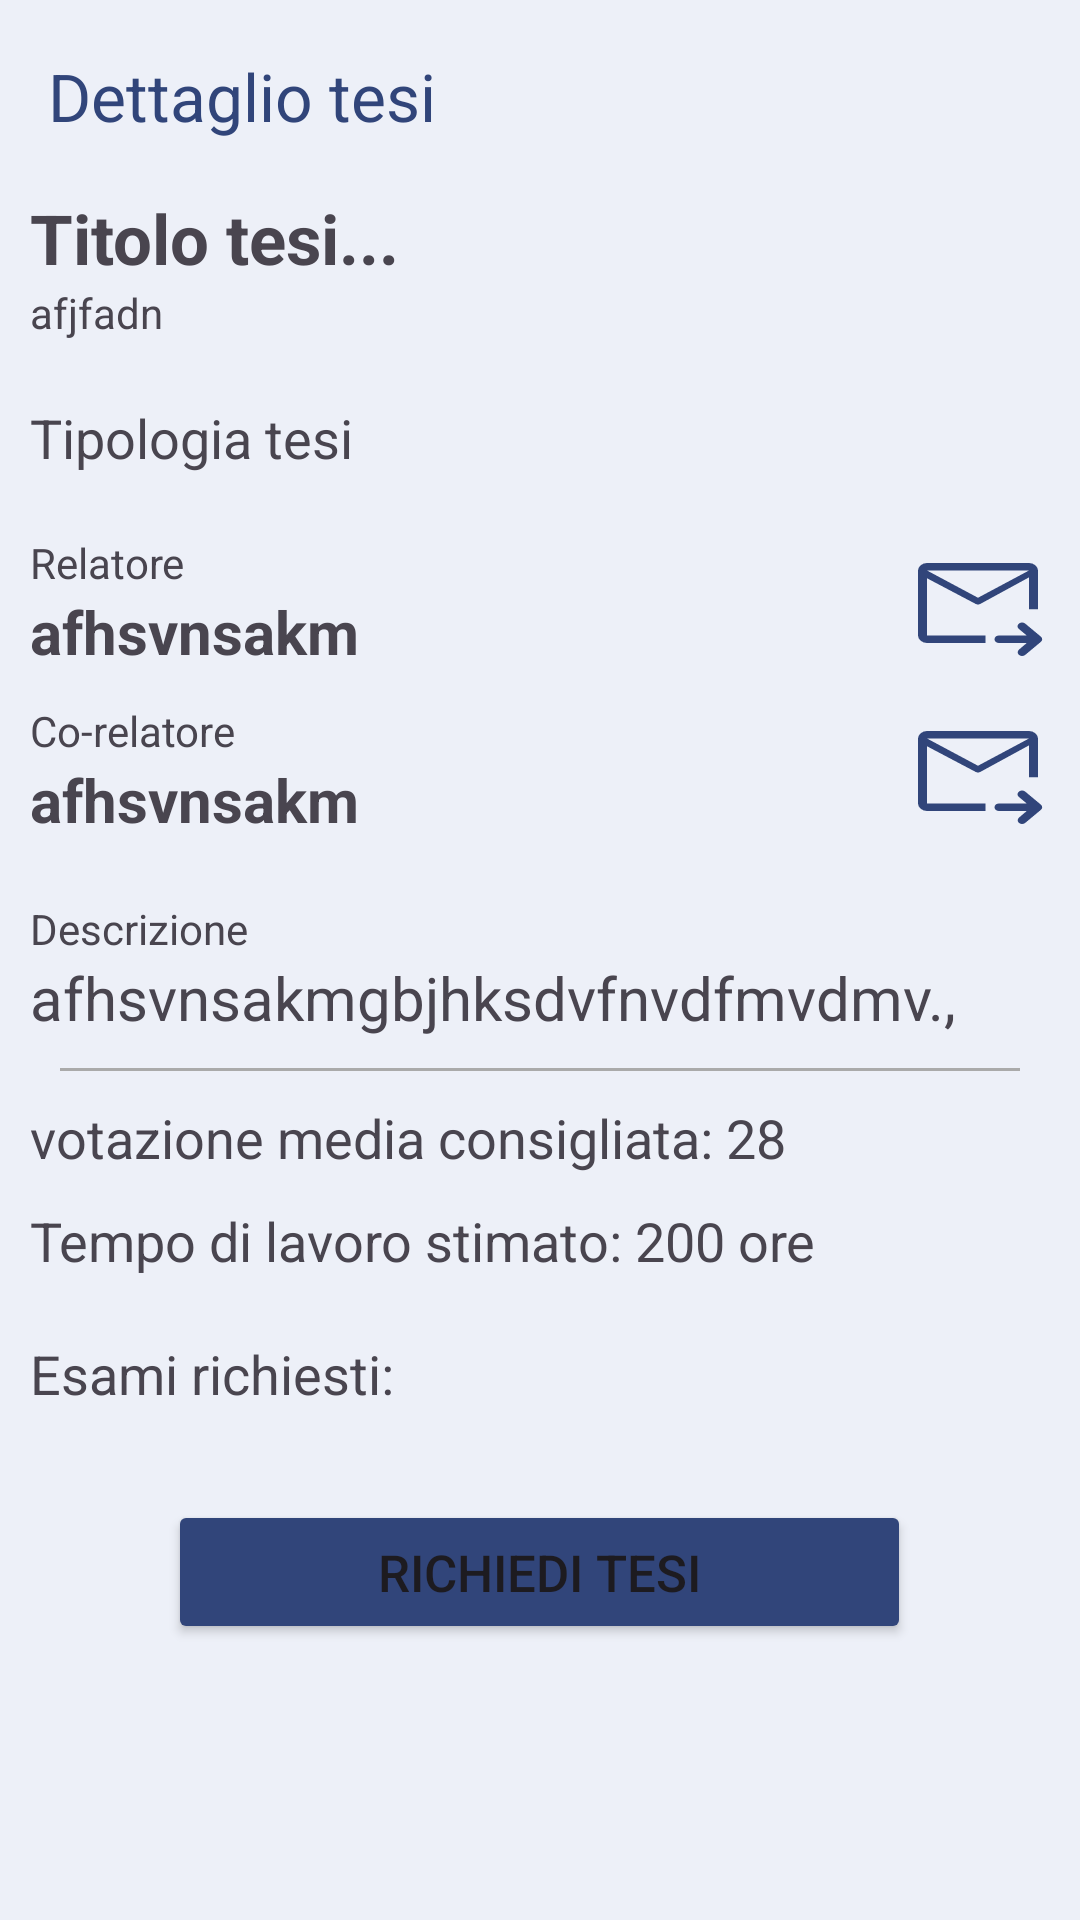

Screen size 1080w x 1920h. Icon name, then its center in pixels as (x=x, y=y):
invio email: (x=980, y=609), (x=980, y=777)
